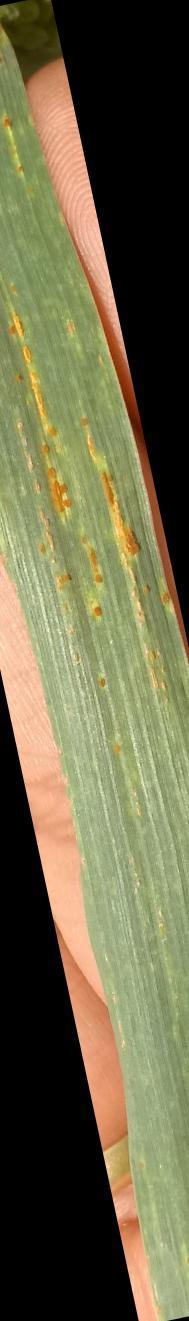Wheat: (0, 298, 143, 591)
